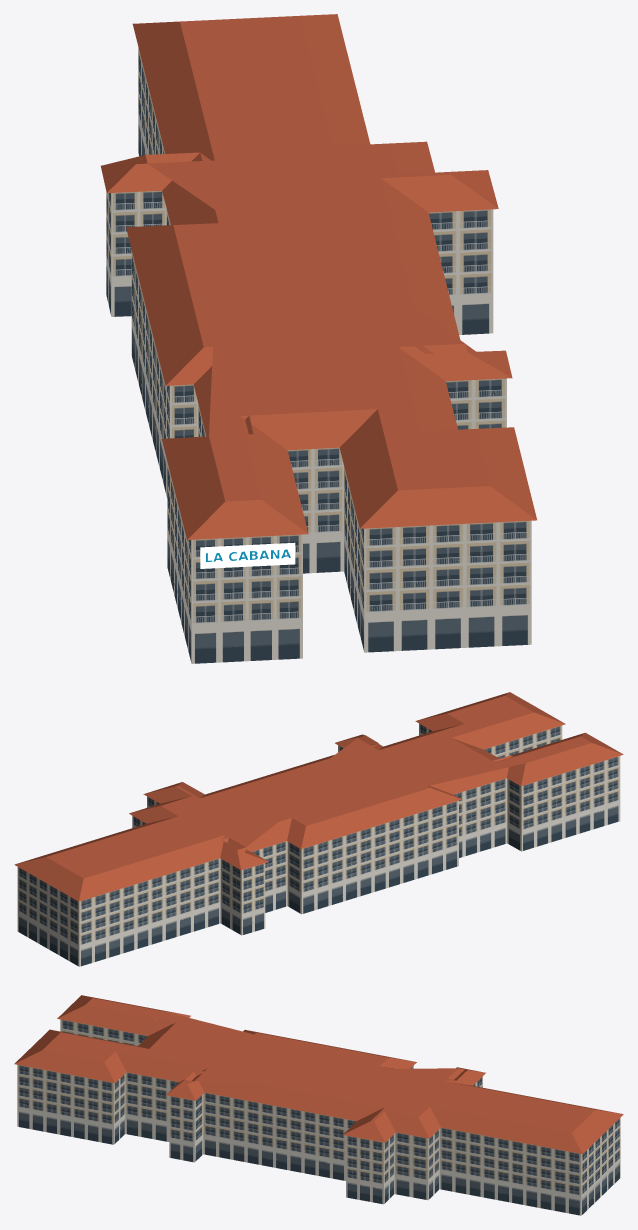
Rendered from m_lacabana.glb.
3 renders of one model, top to bottom at view 1: azimuth 30°, elevation 25°; view 2: azimuth 150°, elevation 25°; view 3: azimuth 270°, elevation 25°, orthographic. The views are drawn at different scales.
Parts seen in each view (by area): view 1: m_lacabana_lod0; view 2: m_lacabana_lod0; view 3: m_lacabana_lod0.
Boxes of the visible parts, x1,y1,x2,y2 form: m_lacabana_lod0: (100, 14, 536, 663); m_lacabana_lod0: (14, 692, 623, 966); m_lacabana_lod0: (14, 995, 623, 1215).
Size of what is drawn, in the model's own units: 89.19 by 18.9 by 145.
Materials: 5 (3 with a texture image).
